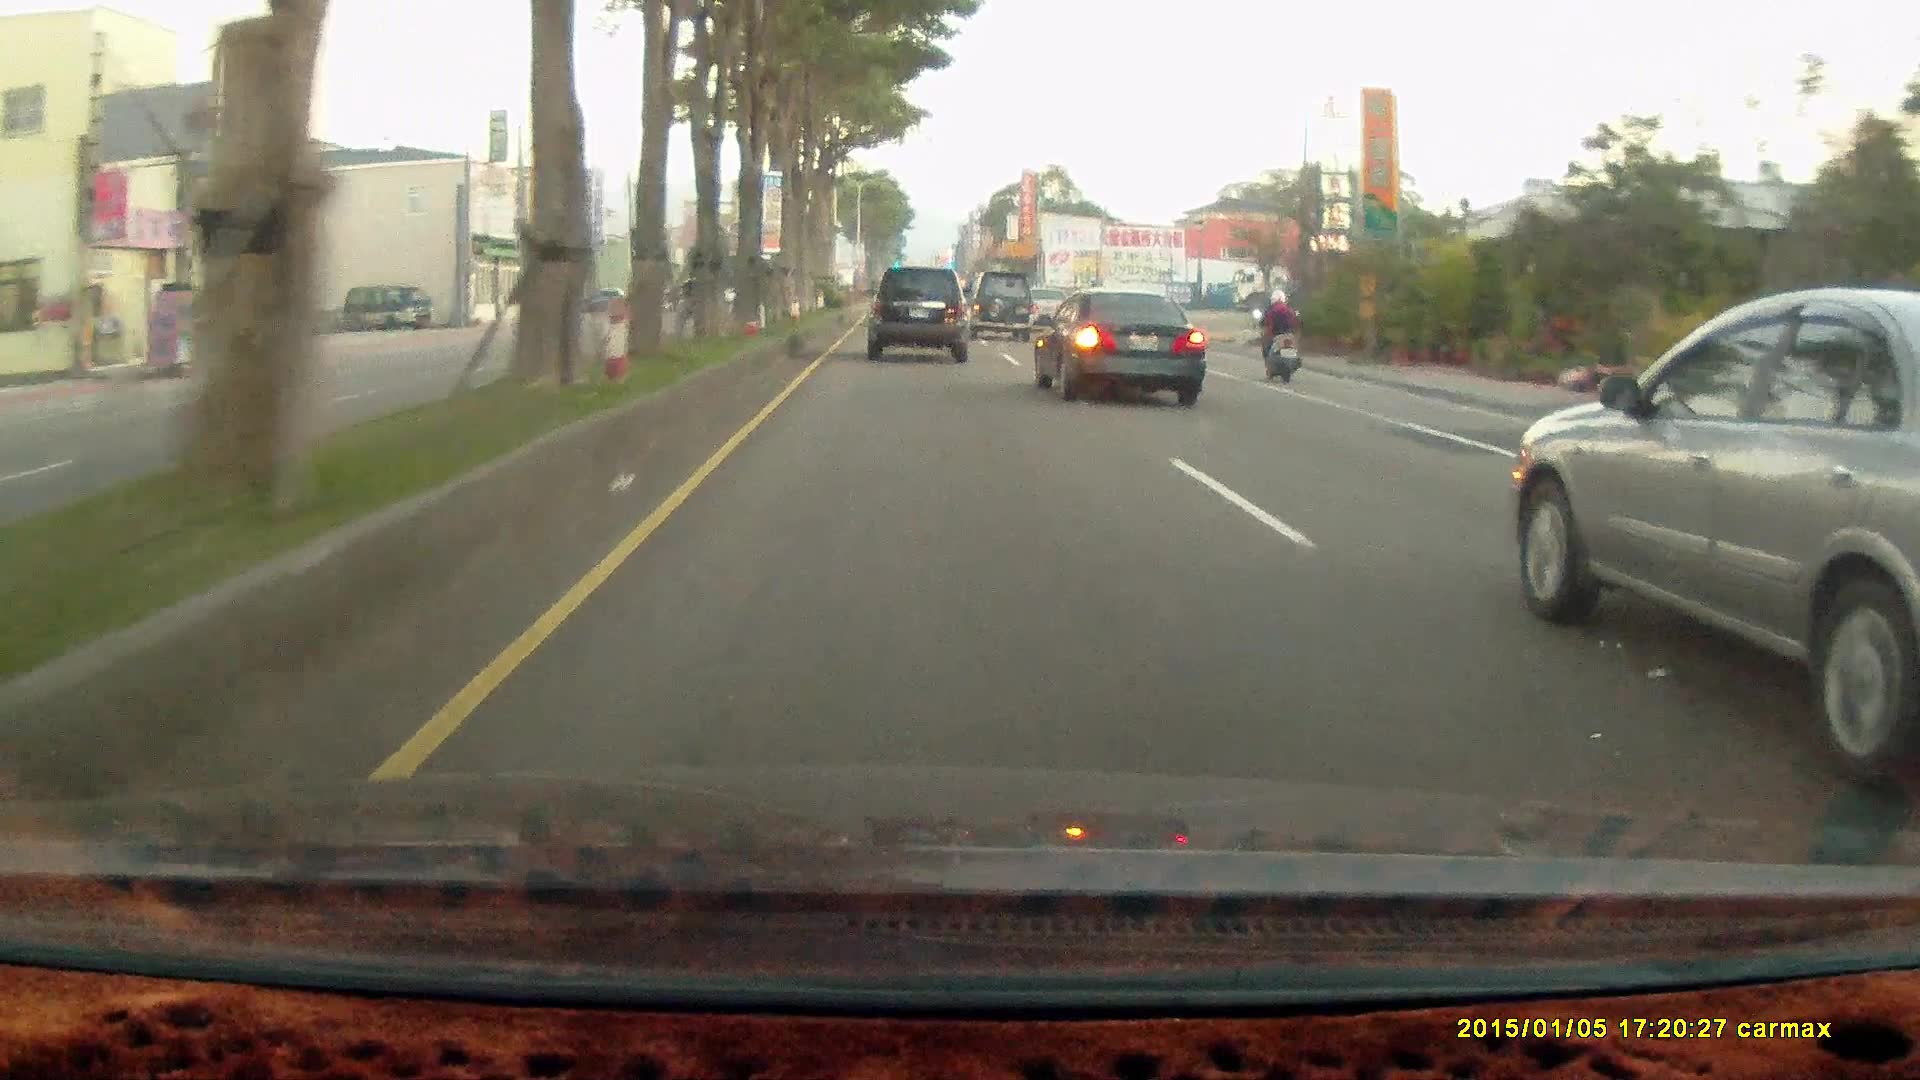rider: (1244, 278, 1313, 400), (1250, 285, 1302, 379)
vehicle: (1502, 290, 1920, 791), (1032, 288, 1210, 406), (1033, 289, 1205, 409), (1230, 265, 1440, 315), (863, 263, 968, 361), (867, 265, 971, 364), (964, 270, 1034, 345), (964, 269, 1033, 343), (341, 282, 438, 329), (341, 283, 432, 330)
